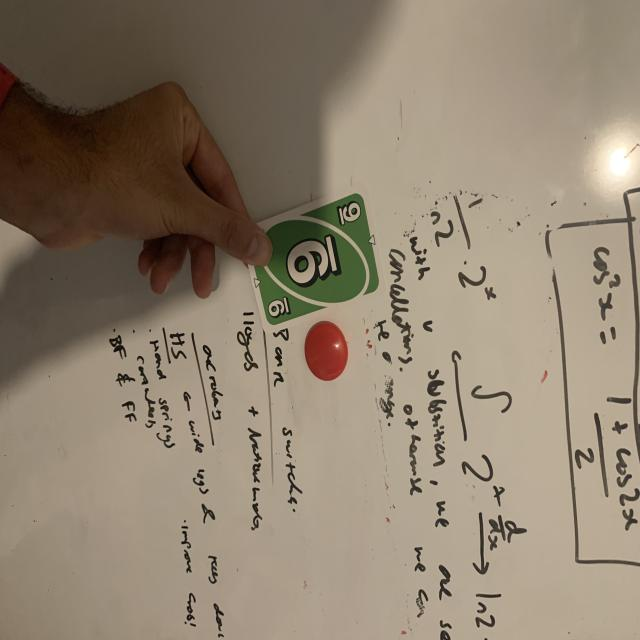lgreen-9: (332, 200, 366, 228)
